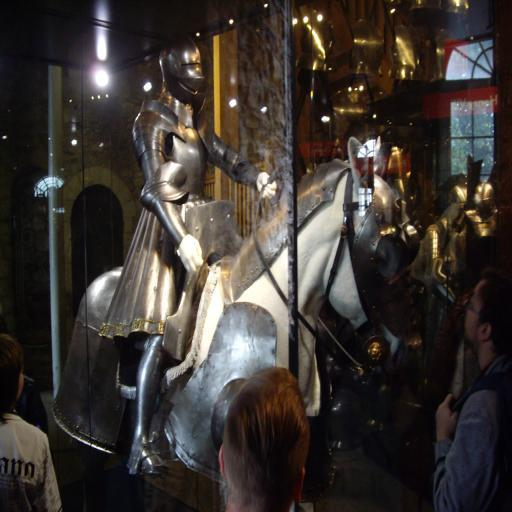horse: (56, 137, 430, 512)
